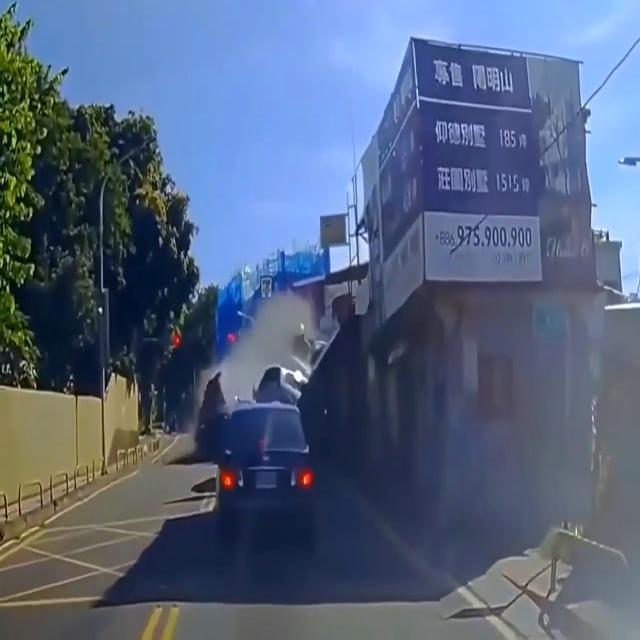accident: (188, 344, 337, 464)
